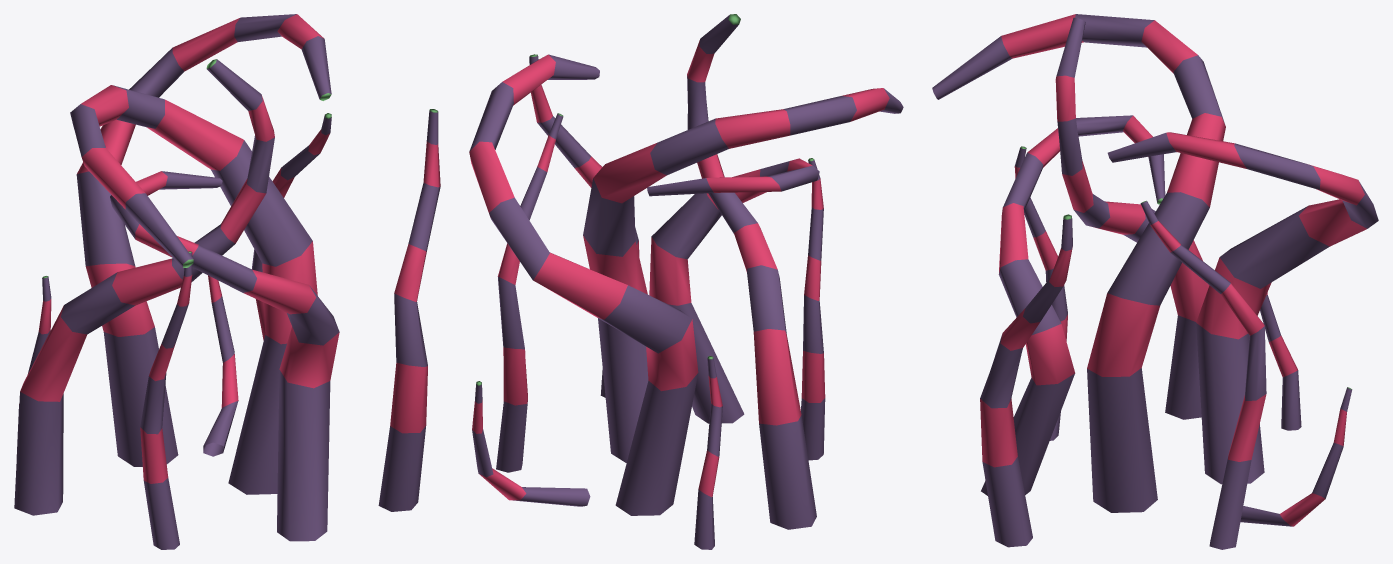
File: Shrub_2.fbx
The picture shows the model from 3 angles, left to right: view 1: azimuth 30°, elevation 25°; view 2: azimuth 150°, elevation 25°; view 3: azimuth 270°, elevation 25°; orthographic projection. The views are drawn at different scales.
Visible parts, largest first — view 1: Shrub_2; view 2: Shrub_2; view 3: Shrub_2.
Part boxes in pixels (x1,y1,x2,y2): Shrub_2: (14, 14, 440, 549); Shrub_2: (469, 14, 903, 549); Shrub_2: (932, 14, 1378, 549).
Size of the model in its own units: 256 by 323 by 280.
